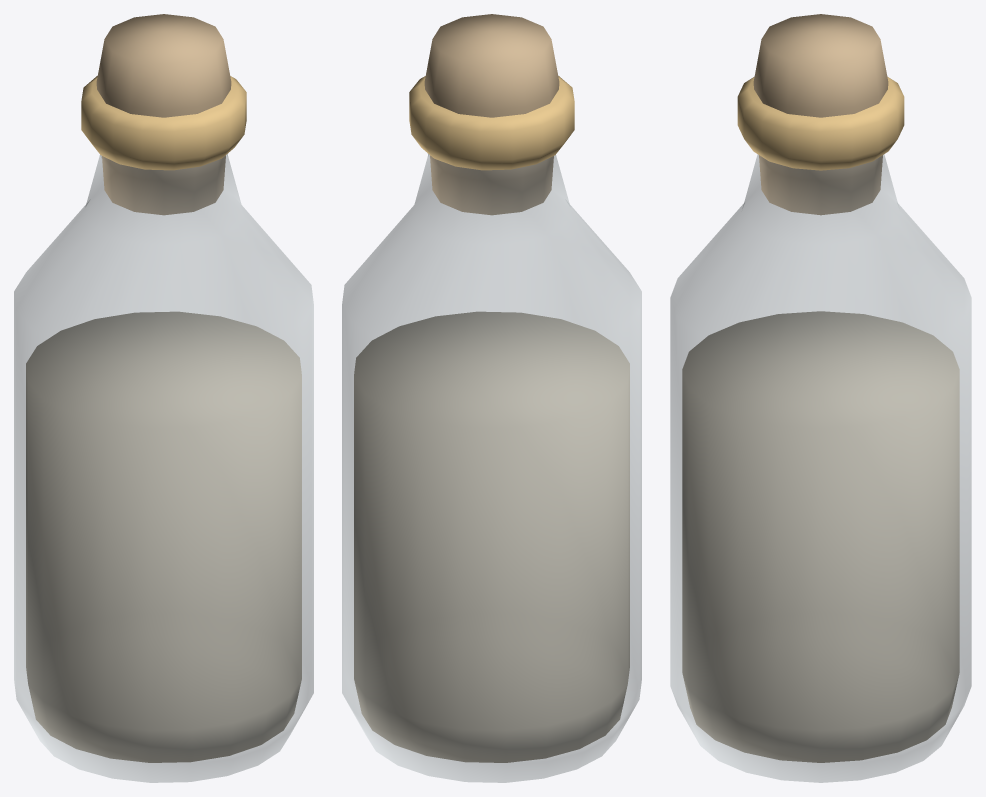
File: vial.glb
3 views of the same model, side by side, from view 1: azimuth 30°, elevation 25°; view 2: azimuth 150°, elevation 25°; view 3: azimuth 270°, elevation 25° (orthographic).
Parts seen in each view (by area): view 1: vial_glass, vial_liquid, vial_cork, vial_cap; view 2: vial_glass, vial_liquid, vial_cork, vial_cap; view 3: vial_glass, vial_liquid, vial_cork, vial_cap.
Boxes of the visible parts, <box> form: vial_glass: <box>14,154,313,782</box>; vial_liquid: <box>26,311,301,762</box>; vial_cork: <box>96,14,231,215</box>; vial_cap: <box>81,76,246,170</box>; vial_glass: <box>342,154,641,782</box>; vial_liquid: <box>354,311,629,762</box>; vial_cork: <box>424,14,559,215</box>; vial_cap: <box>409,76,574,170</box>; vial_glass: <box>670,154,971,782</box>; vial_liquid: <box>682,311,959,762</box>; vial_cork: <box>753,14,888,215</box>; vial_cap: <box>737,76,904,170</box>.
Bounding box in the file's own units: 0.038 × 0.097 × 0.038.
